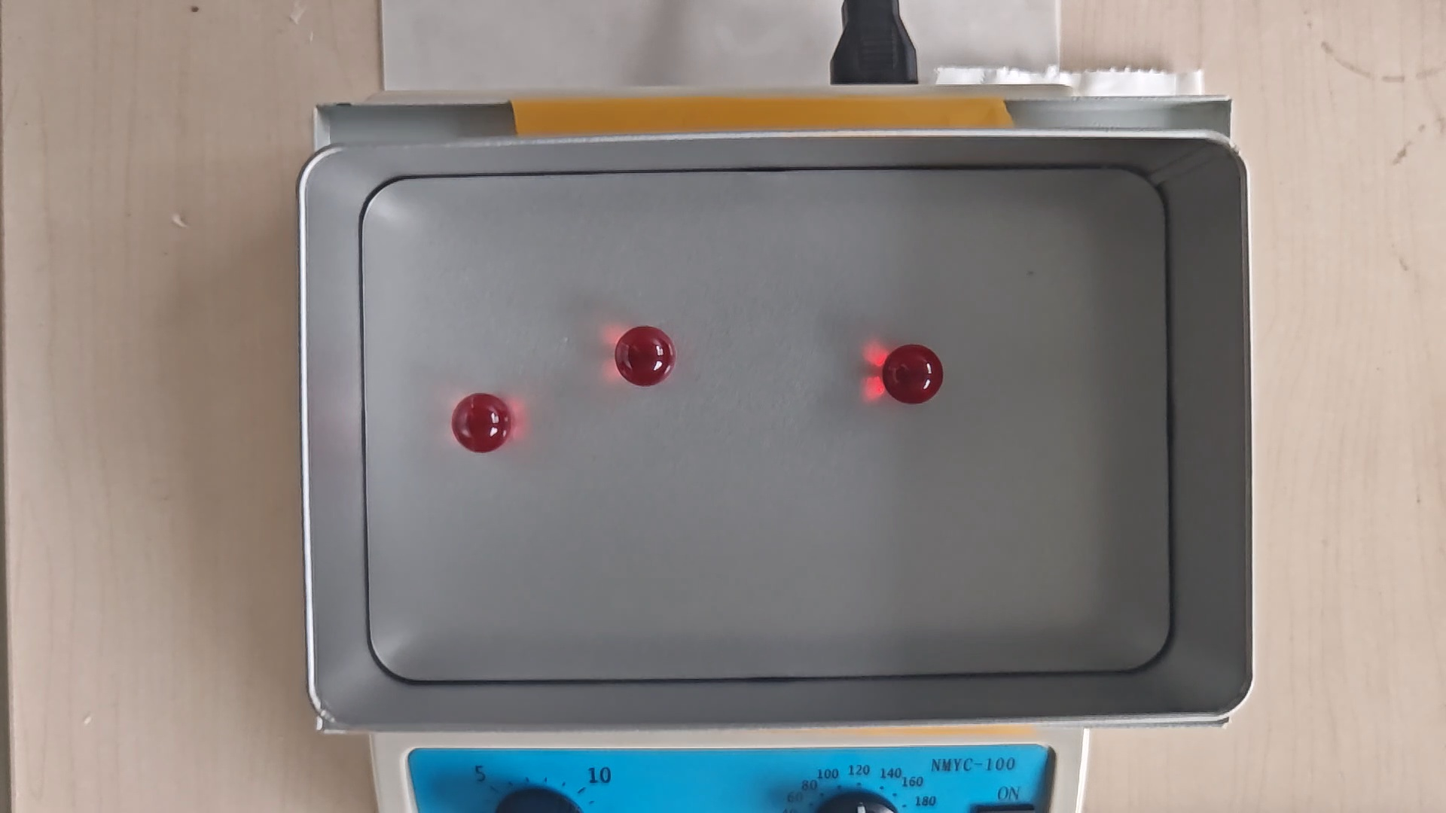ball: (616, 325, 676, 388), (884, 343, 944, 406), (453, 391, 513, 452)
container: (363, 168, 1169, 681)
